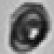correct: (3, 2, 54, 52)
